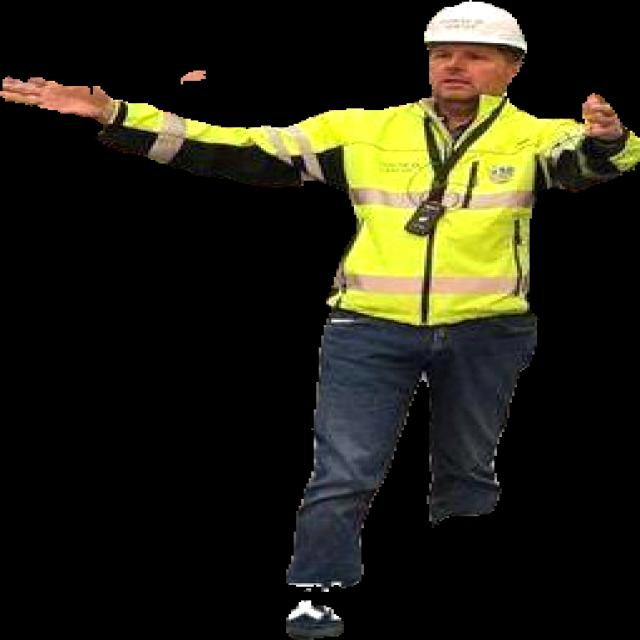Pessoa: (0, 0, 639, 591)
